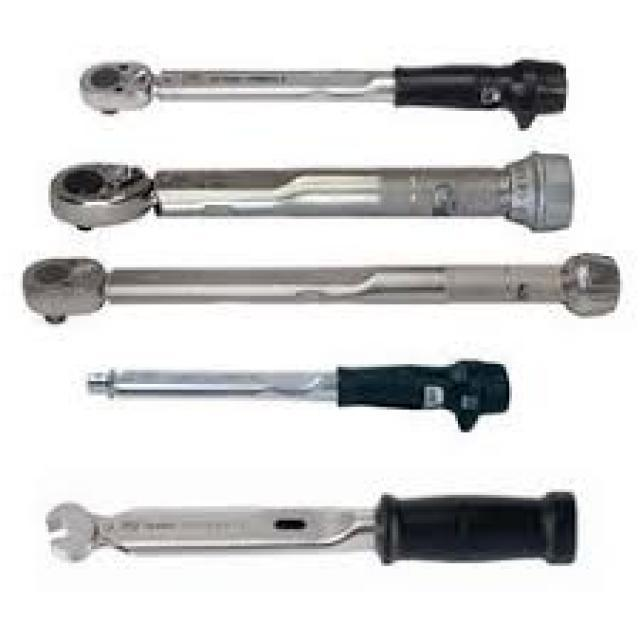wrench: (31, 141, 586, 249), (41, 466, 594, 573), (16, 252, 635, 334), (75, 342, 523, 439), (59, 52, 592, 130)
